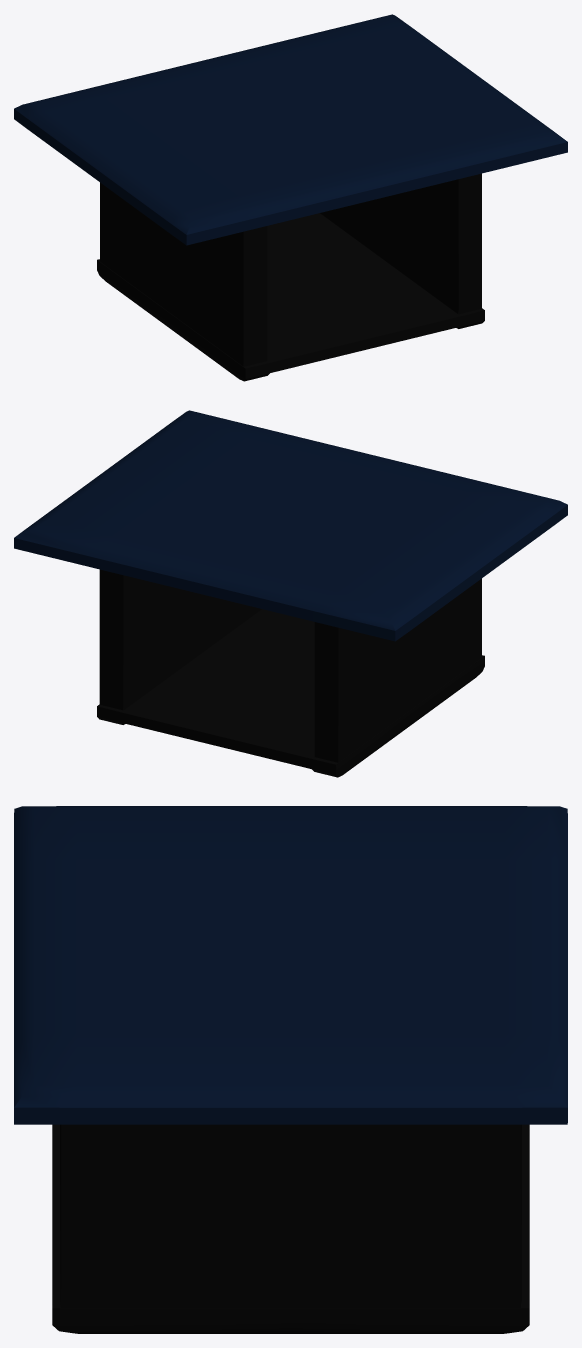
File: table5.fbx
3 renders of one model, top to bottom at view 1: azimuth 30°, elevation 25°; view 2: azimuth 150°, elevation 25°; view 3: azimuth 270°, elevation 25°, orthographic. The views are drawn at different scales.
Visible parts, largest first — view 1: Table5; view 2: Table5; view 3: Table5.
Part boxes in pixels (x1,y1,x2,y2): Table5: (14,14,567,381); Table5: (14,410,567,777); Table5: (14,806,567,1333).
Bounding box in the file's own units: 173 × 79.24 × 135.
